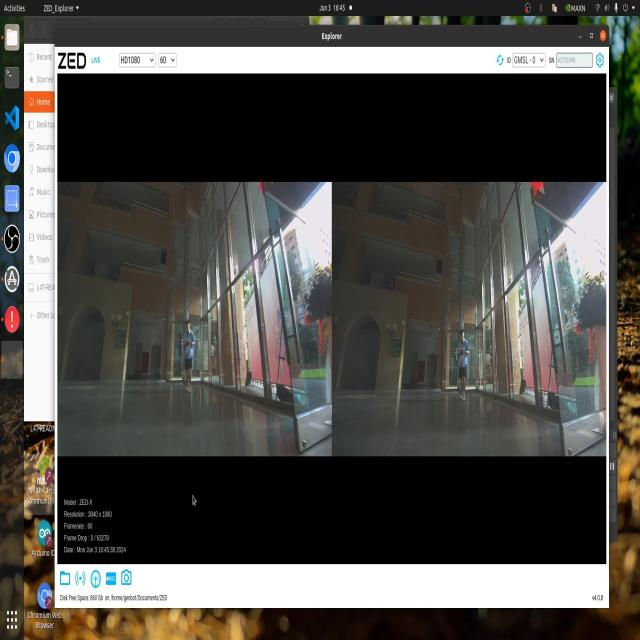blue: (452, 344, 465, 365), (180, 333, 190, 353)
